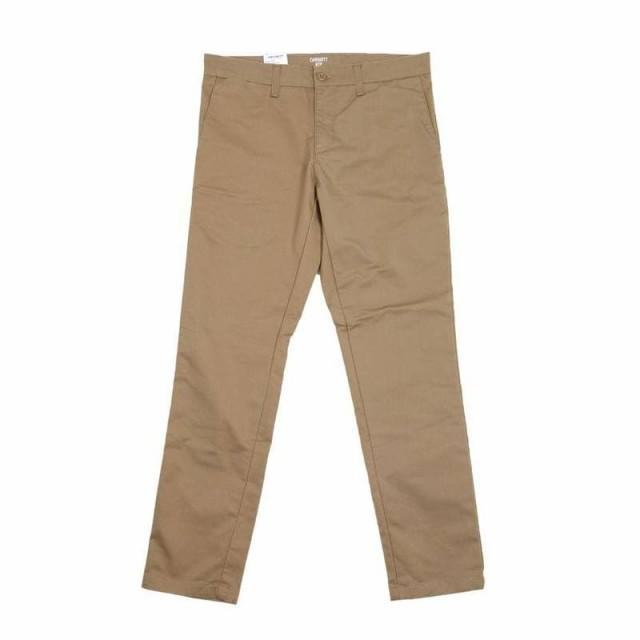long-pants: (140, 52, 488, 604)
